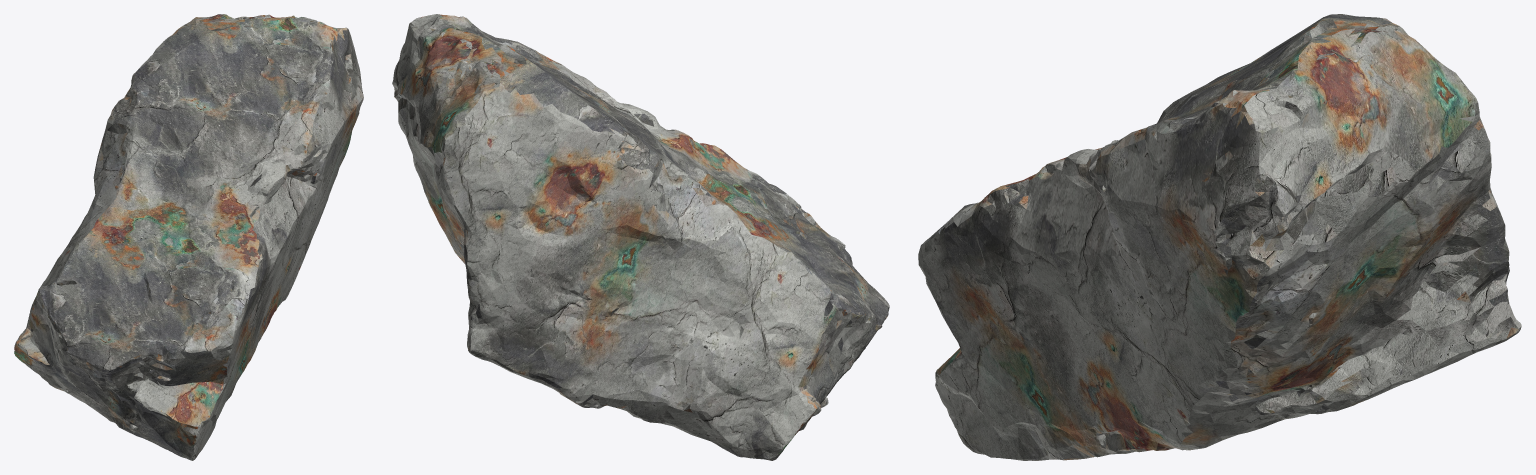
File: Lithosquare-rock-2.glb
3 views of the same model, side by side, from view 1: azimuth 30°, elevation 25°; view 2: azimuth 150°, elevation 25°; view 3: azimuth 270°, elevation 25° (orthographic). The views are drawn at different scales.
Visible parts, largest first — view 1: Outer_Shell; view 2: Outer_Shell; view 3: Outer_Shell.
Boxes of the visible parts, bbox=[...] form: Outer_Shell: bbox=[14, 14, 363, 460]; Outer_Shell: bbox=[392, 14, 889, 460]; Outer_Shell: bbox=[918, 14, 1521, 460].
Size of the model in its own units: 1.86 by 1.71 by 1.71.
Materials: 1 (1 with a texture image).
